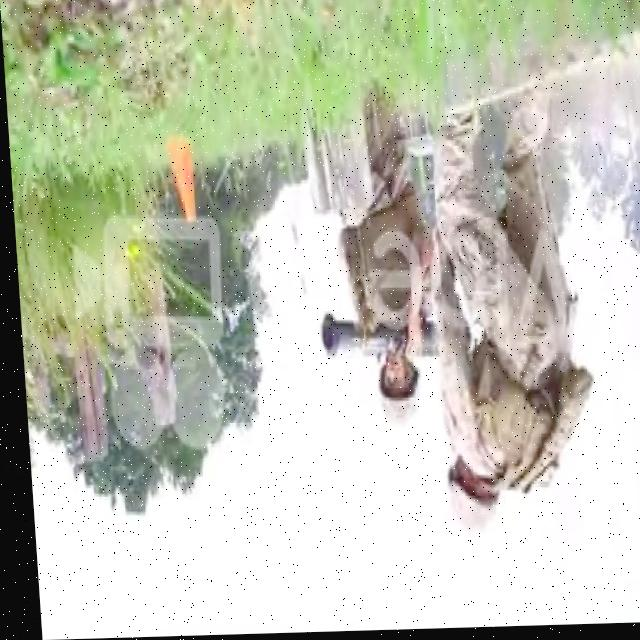rocket: (314, 315, 437, 376)
